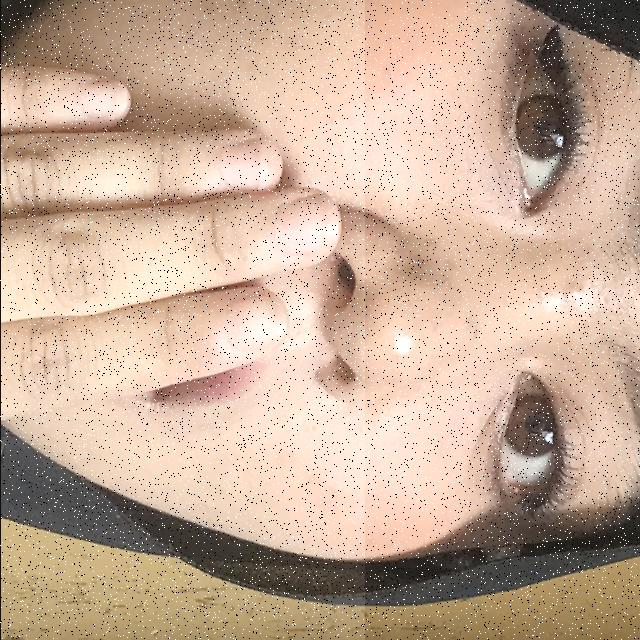ngantuk: (0, 0, 364, 640)
